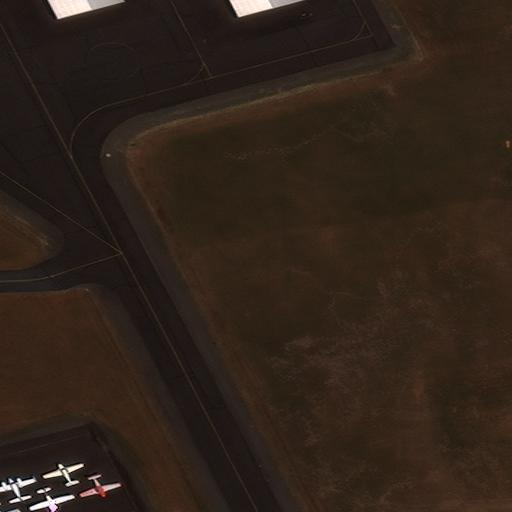Small Civil Transport: (31, 487, 75, 511), (81, 473, 121, 498), (41, 462, 81, 486), (0, 476, 33, 504)
